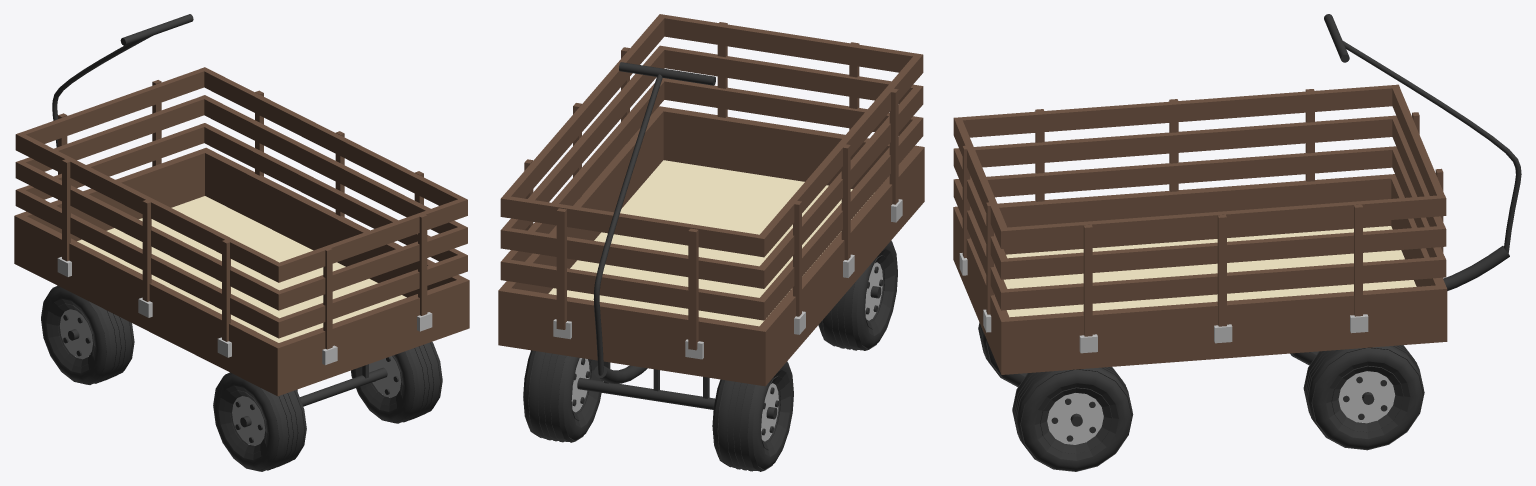
The model's file is 9J0ma6qneqK.glb.
The picture shows the model from 3 angles, left to right: view 1: azimuth 30°, elevation 25°; view 2: azimuth 150°, elevation 25°; view 3: azimuth 270°, elevation 25°; orthographic projection. The views are drawn at different scales.
Visible parts, largest first — view 1: Box20221, Box20219, Box20226, Box20218; view 2: Box20221, Box20219, Box20226, Box20218; view 3: Box20221, Box20219, Box20226, Box20218.
Boxes of the visible parts, x1,y1,x2,y2 form: Box20221: (14,67,469,396); Box20219: (41,14,442,471); Box20226: (77,196,406,342); Box20218: (57,257,432,445); Box20221: (498,14,924,386); Box20219: (523,62,897,471); Box20226: (548,160,872,326); Box20218: (553,199,902,441); Box20221: (953,84,1447,374); Box20219: (978,14,1521,471); Box20226: (1004,226,1416,317); Box20218: (959,253,1395,444).
Bounding box in the file's own units: 0.8655 × 1 × 1.4.
